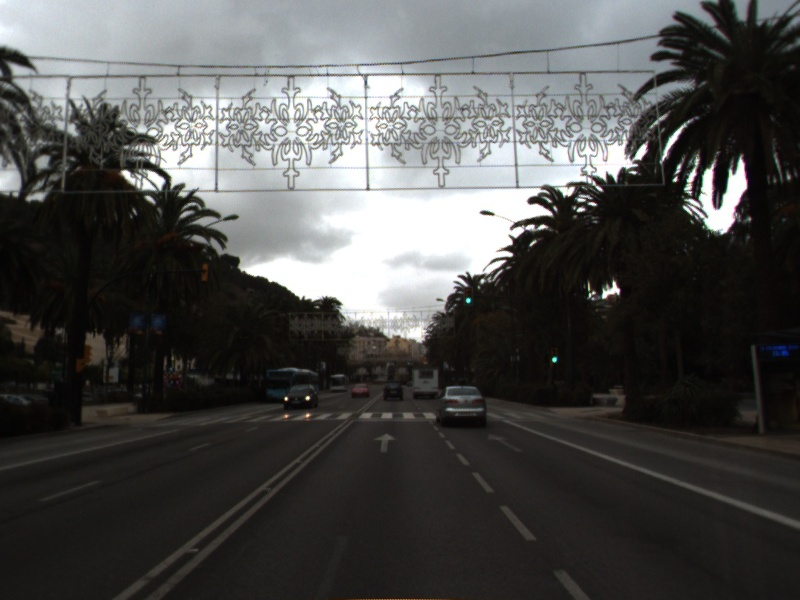STRAIGHT: (485, 431, 525, 454), (371, 431, 401, 454)
